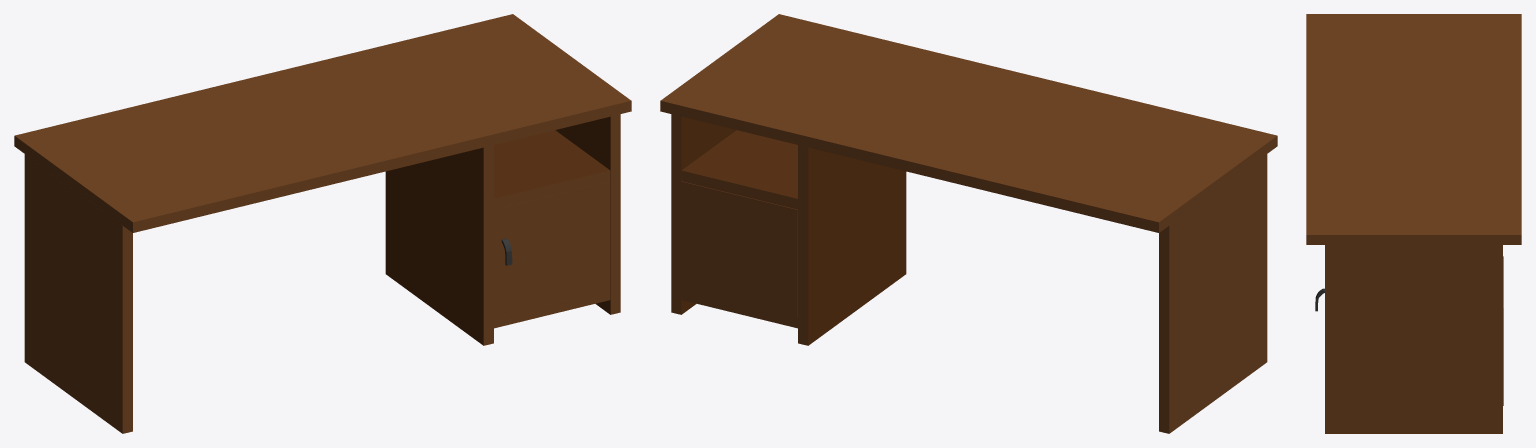
The model's file is Desk.fbx.
The picture shows the model from 3 angles, left to right: view 1: azimuth 30°, elevation 25°; view 2: azimuth 150°, elevation 25°; view 3: azimuth 270°, elevation 25°; orthographic projection. The views are drawn at different scales.
Visible parts, largest first — view 1: Prop_Desk_05; view 2: Prop_Desk_05; view 3: Prop_Desk_05.
Boxes of the visible parts, box(x1,y1,x2,y2) form: Prop_Desk_05: box(14, 14, 631, 433); Prop_Desk_05: box(660, 14, 1277, 433); Prop_Desk_05: box(1306, 14, 1521, 433).
Size of the model in its own units: 170 by 71.38 by 70.
1 material, 1 textured.
